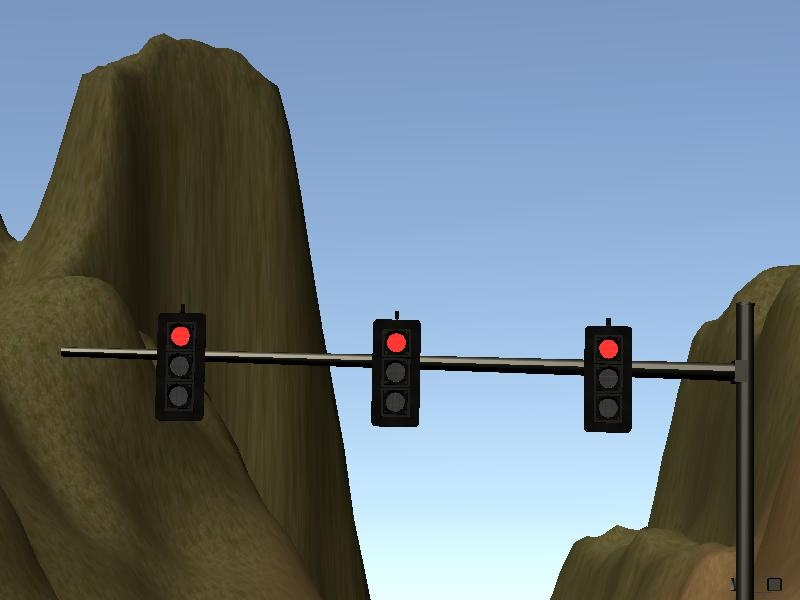red: (365, 310, 429, 439), (579, 313, 637, 439), (152, 306, 209, 425)
